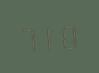one: (39, 20, 58, 52)
seven: (18, 22, 37, 53)
zero: (59, 19, 78, 50)
